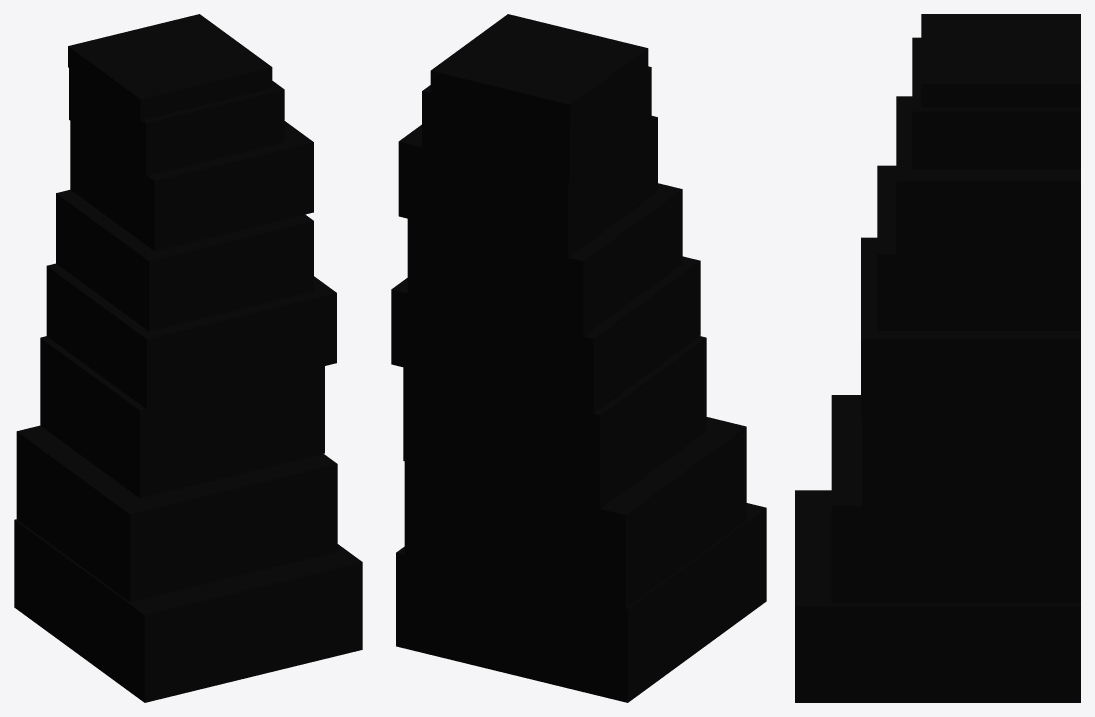
The model's file is IceButtress.obj.
The picture shows the model from 3 angles, left to right: view 1: azimuth 30°, elevation 25°; view 2: azimuth 150°, elevation 25°; view 3: azimuth 270°, elevation 25°; orthographic projection. The views are drawn at different scales.
Parts seen in each view (by area): view 1: IceButtress; view 2: IceButtress; view 3: IceButtress.
Boxes of the visible parts, bbox=[...] form: IceButtress: bbox=[14, 14, 362, 702]; IceButtress: bbox=[391, 14, 766, 702]; IceButtress: bbox=[795, 14, 1080, 702].
Bounding box in the file's own units: 6.61 × 15.6 × 6.72.
